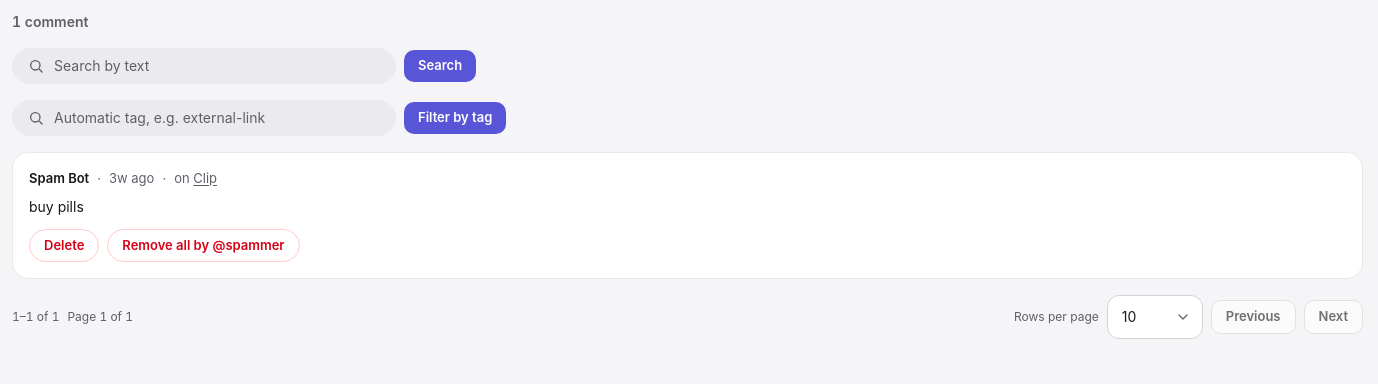
Scenario: AdminCommentsView bulk removal › surfaces a failure instead of claiming success
Click the button with aria-label "Remove all comments by @spammer".
click(203, 245)  # box 107,228 -> 300,262
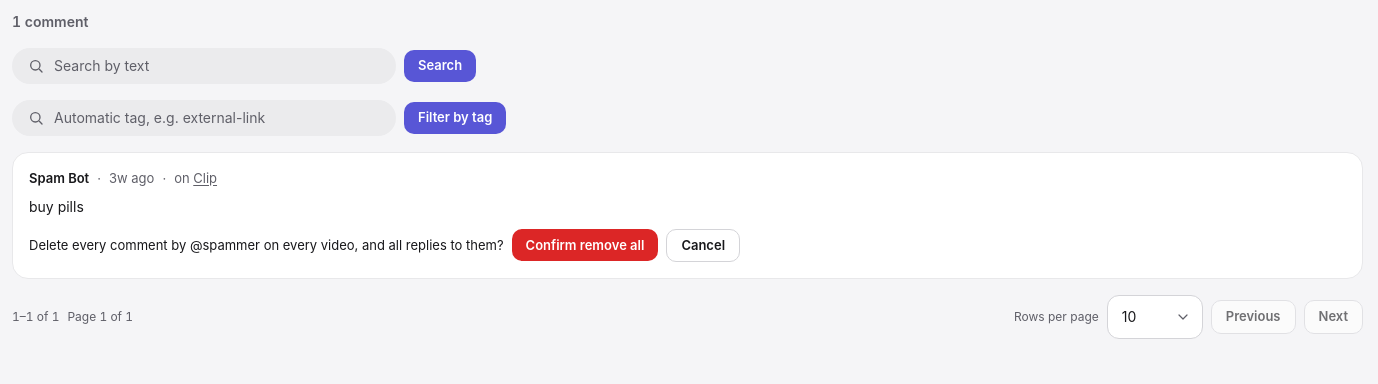
Click the button "Confirm remove all".
click(585, 245)  # box 512,229 -> 658,261
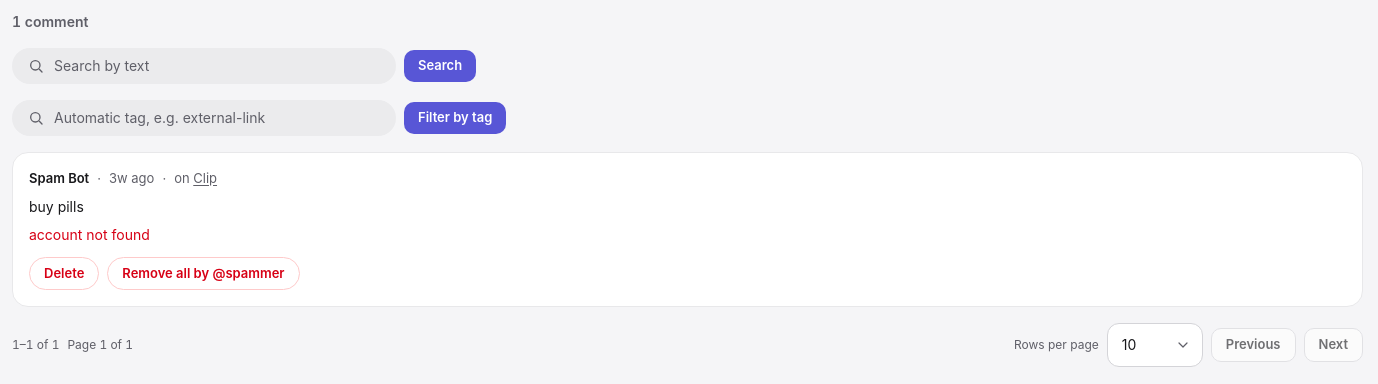
Check: the text "account not found" is shown, box 29,226 -> 150,242
